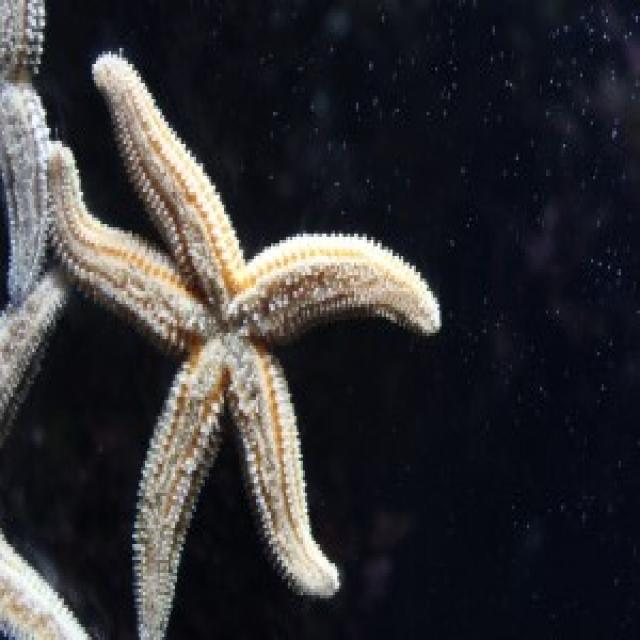Starfish: (49, 25, 443, 640)
